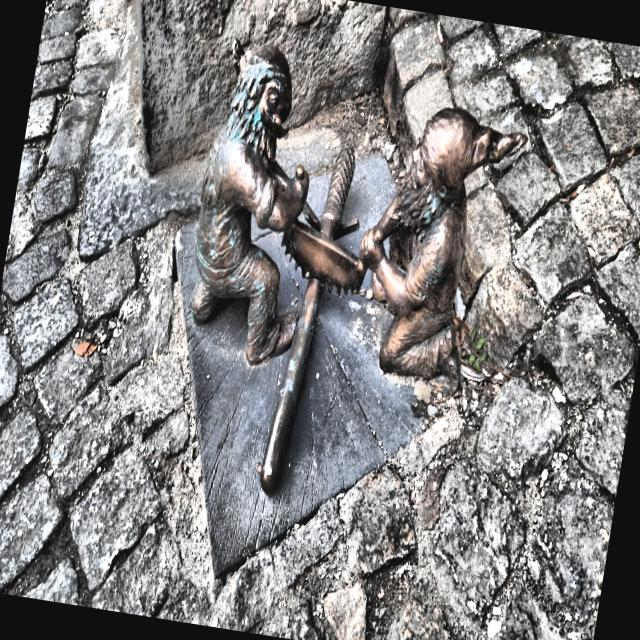Wyrostek i Zadymek: (190, 42, 524, 493)
